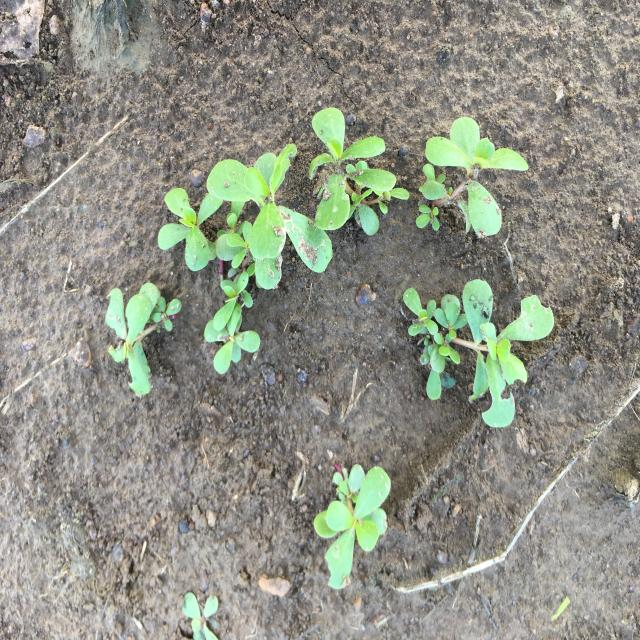MorningGlory: (158, 143, 333, 374), (403, 279, 554, 428), (416, 116, 529, 236), (313, 463, 391, 589), (105, 282, 182, 395)
Purslane: (308, 107, 409, 236)
